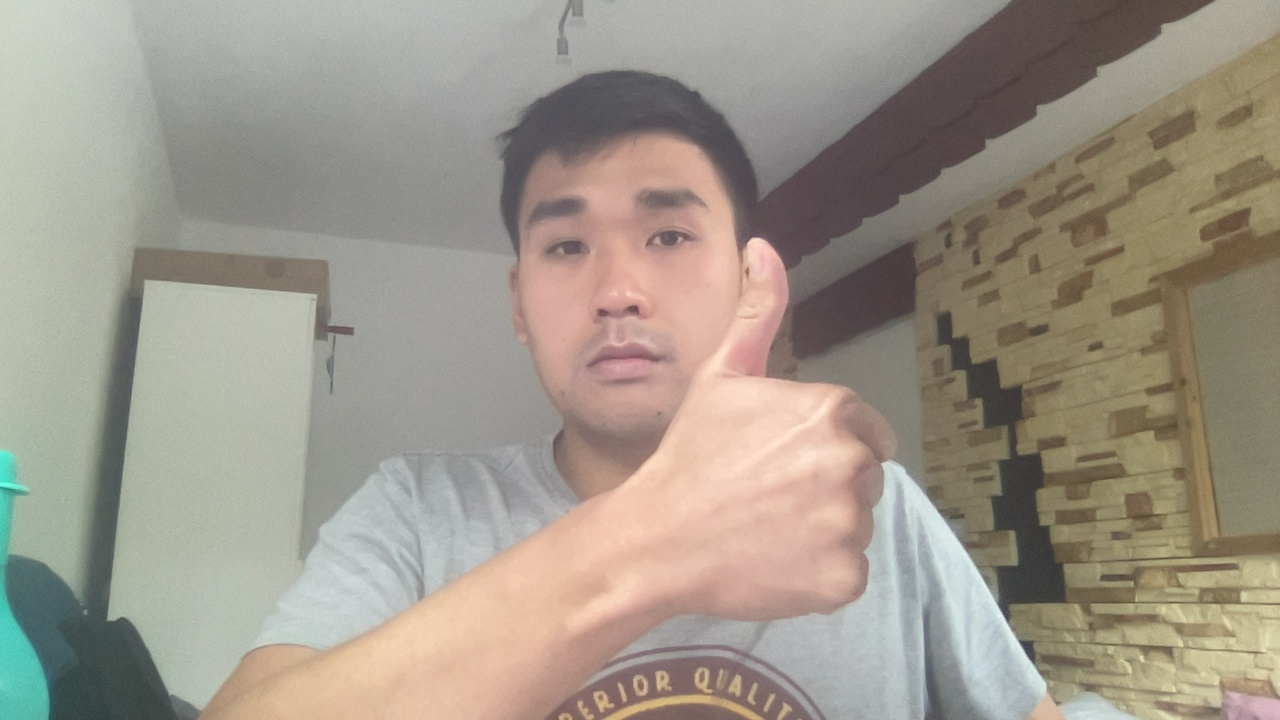good: (663, 237, 898, 625)
